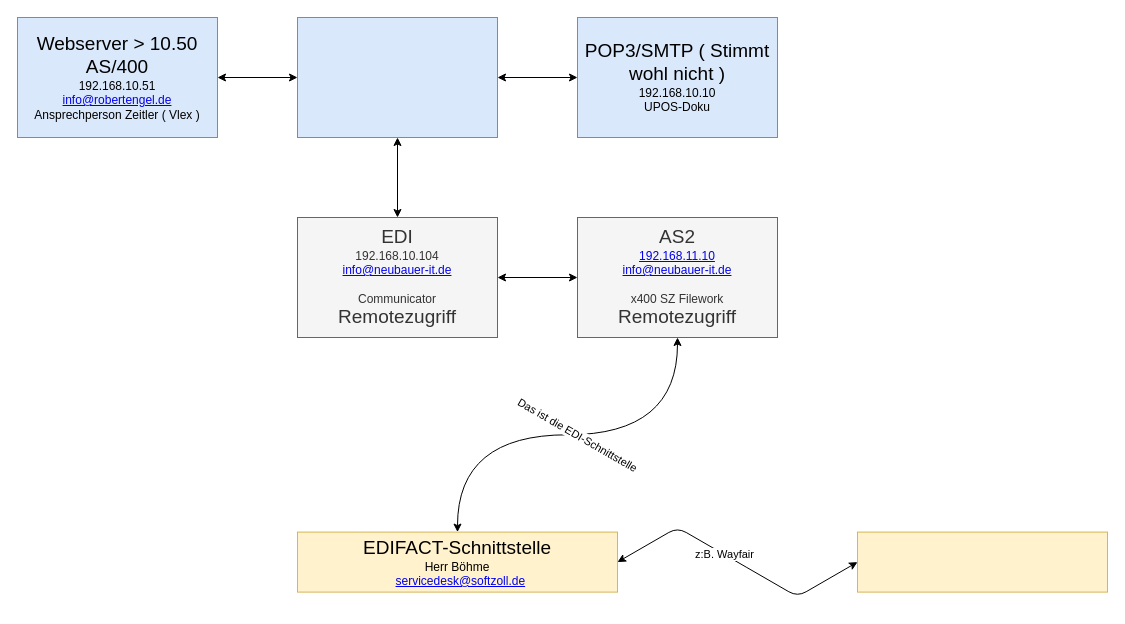
Image size: 1125x624. Some labels were removed from this diagram. Each missing label, with the centre of its shape:
"ERP UPos / AS400 192.168.10.50 z.B. Orders: Y:/ORDERS - von EDI/ORDERS" goes at (x=397, y=77).
"wayfair Jan Klare jklare@wayfair.com" goes at (x=982, y=561).
